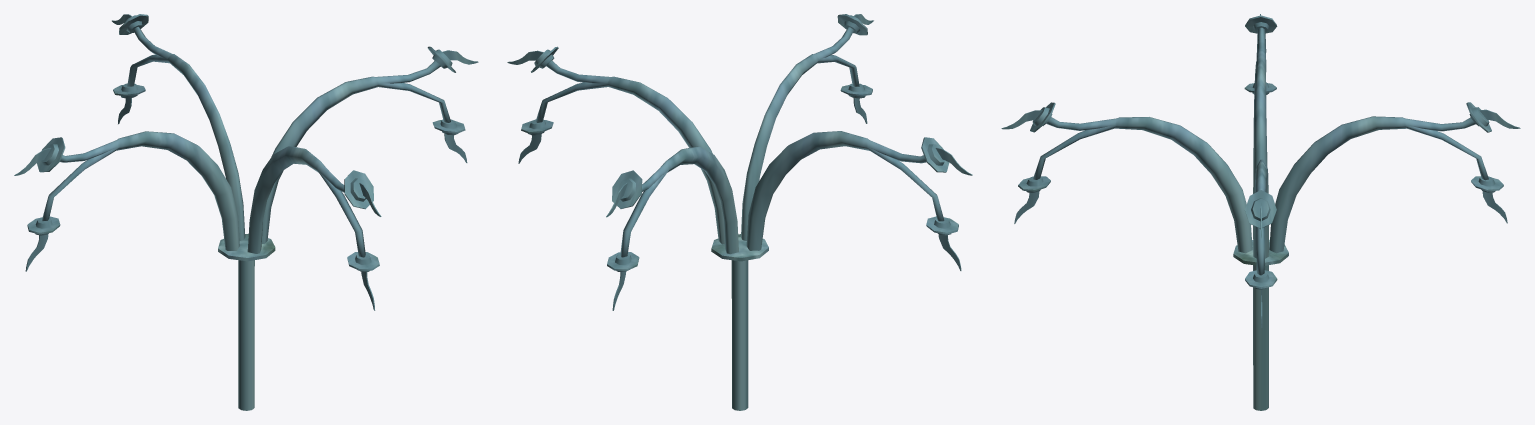
Rendered from 青铜分支.FBX.
3 renders of one model, left to right at view 1: azimuth 30°, elevation 25°; view 2: azimuth 150°, elevation 25°; view 3: azimuth 270°, elevation 25°, orthographic. The views are drawn at different scales.
Visible parts, largest first — view 1: qingtong2; view 2: qingtong2; view 3: qingtong2.
Boxes of the visible parts, left/top/right/bottom form: qingtong2: left=14, top=14, right=478, bottom=410; qingtong2: left=507, top=14, right=972, bottom=410; qingtong2: left=1001, top=14, right=1520, bottom=410.
Bounding box in the file's own units: 27.21 × 17.64 × 27.21.
